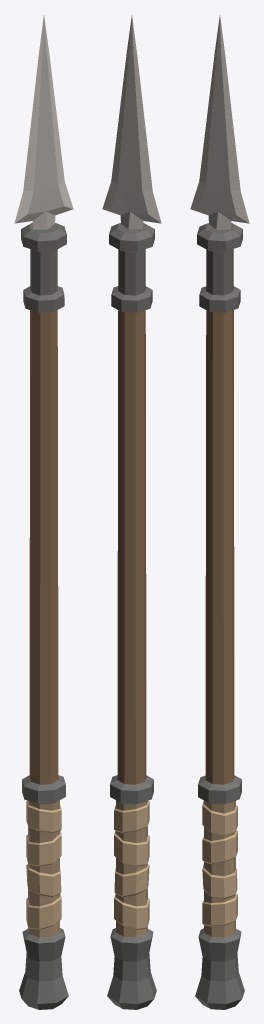
The model's file is SM_pwe_fantasy_spear_04.fbx.
3 renders of one model, left to right at view 1: azimuth 30°, elevation 25°; view 2: azimuth 150°, elevation 25°; view 3: azimuth 330°, elevation 25°, orthographic.
Parts seen in each view (by area): view 1: SM_pwe_fantasy_spear_04; view 2: SM_pwe_fantasy_spear_04; view 3: SM_pwe_fantasy_spear_04.
Part boxes in pixels (x1,y1,x2,y2): SM_pwe_fantasy_spear_04: [14, 15, 73, 1009]; SM_pwe_fantasy_spear_04: [102, 15, 161, 1009]; SM_pwe_fantasy_spear_04: [190, 15, 249, 1009].
Bounding box in the file's own units: 10.28 × 165 × 7.75.
